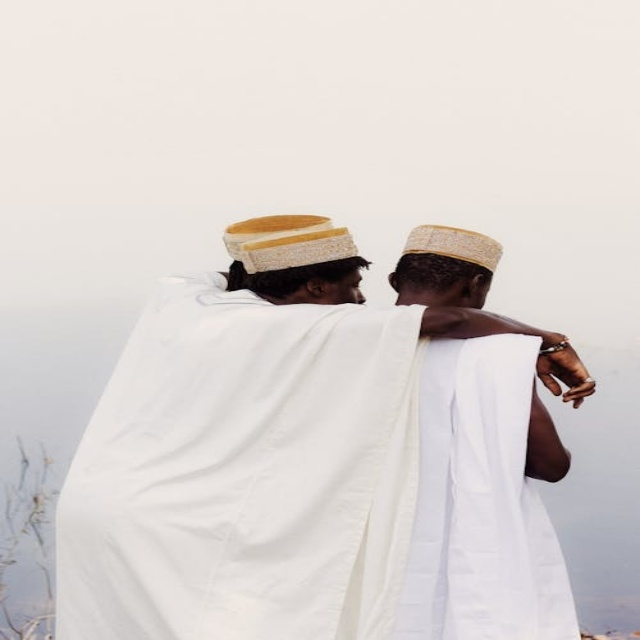Sin_guantes: (535, 337, 594, 402)
